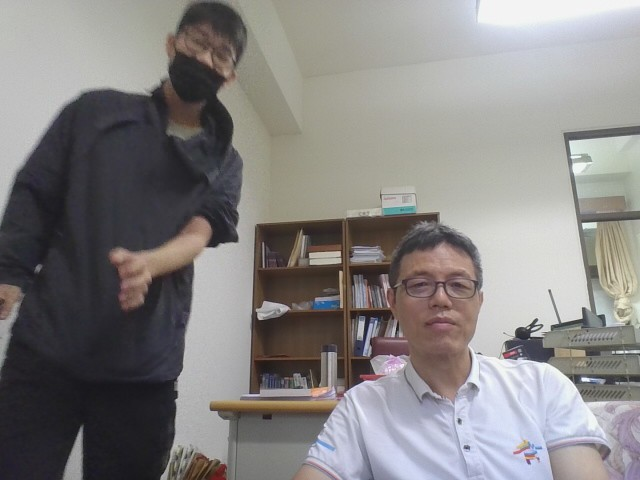No_Gloves: (105, 241, 159, 312), (0, 281, 23, 324)
No_Helmet: (383, 217, 487, 377), (159, 0, 249, 102)
person: (0, 0, 256, 479), (258, 202, 631, 480)
